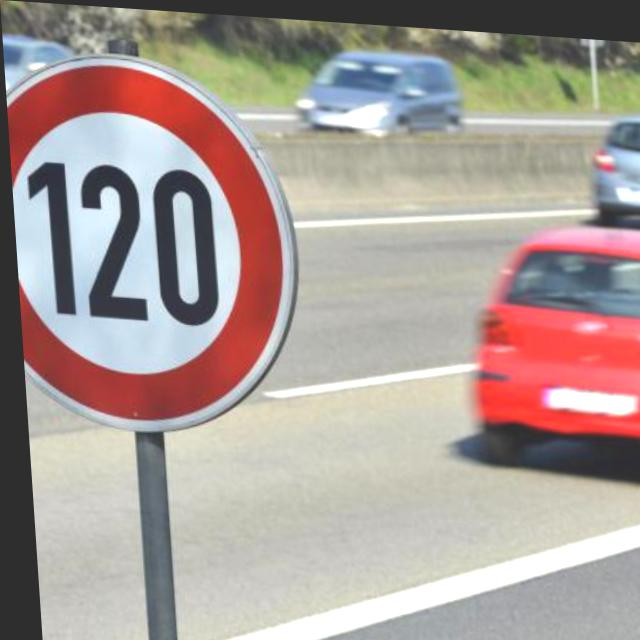limit120: (2, 34, 308, 441)
